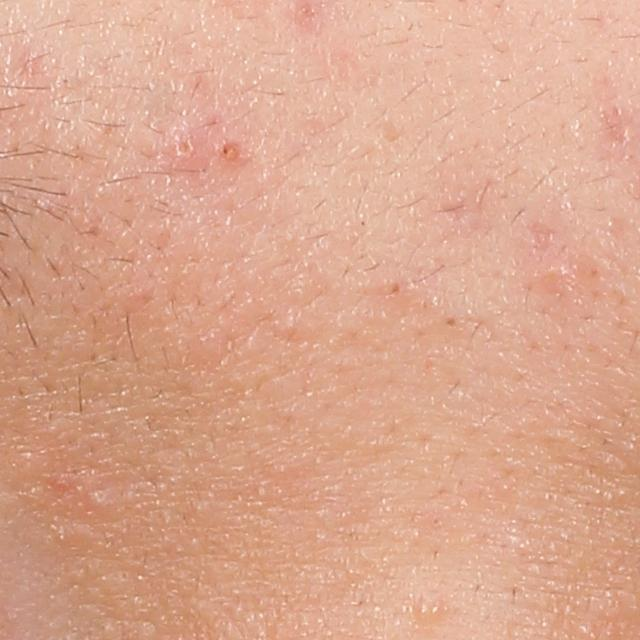comedo: (81, 489, 105, 513)
papule: (168, 133, 204, 171), (220, 138, 243, 165)
